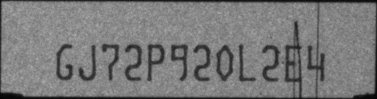2: (123, 43, 142, 81), (261, 44, 280, 82), (192, 43, 210, 81)
4: (307, 45, 325, 82)
7: (102, 43, 120, 81)
9: (170, 42, 188, 80)
E: (284, 43, 302, 81)
G: (56, 42, 74, 81)
J: (79, 44, 97, 81)
L: (238, 44, 256, 82)
O: (215, 45, 234, 82)
P: (147, 43, 166, 81)
